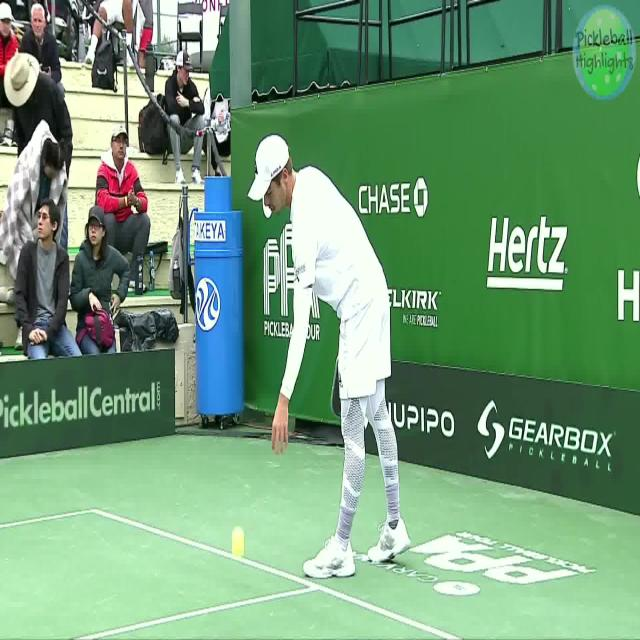ball: (232, 525, 245, 561)
